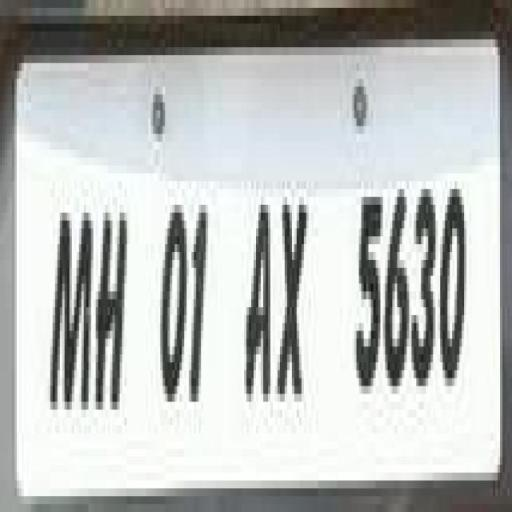number plate: (0, 47, 493, 496)
